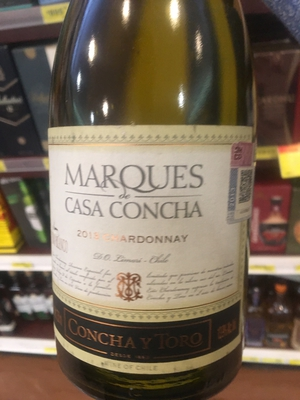marques de casa concha chardonnay: (48, 21, 261, 371)
